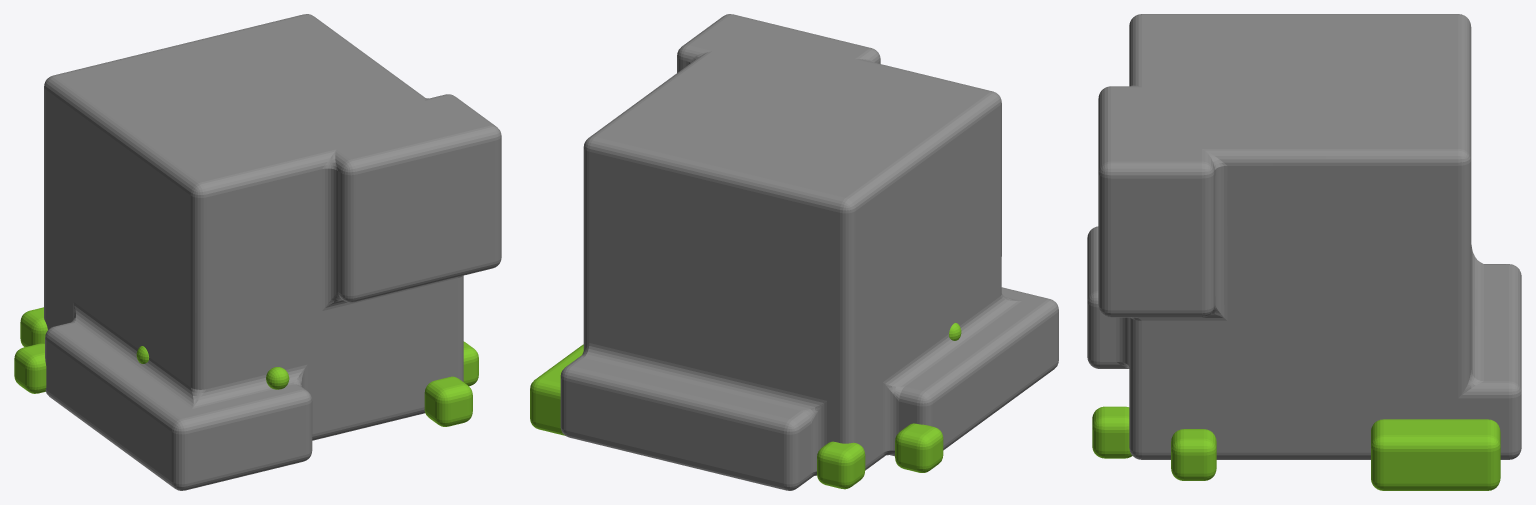
3 renders of one model, left to right at view 1: azimuth 30°, elevation 25°; view 2: azimuth 150°, elevation 25°; view 3: azimuth 270°, elevation 25°, orthographic. The views are drawn at different scales.
Visible parts, largest first — view 1: BipJamExport_stone; view 2: BipJamExport_stone; view 3: BipJamExport_stone.
Boxes of the visible parts, x1,y1,x2,y2 form: BipJamExport_stone: (14, 14, 501, 490); BipJamExport_stone: (530, 14, 1058, 490); BipJamExport_stone: (1087, 14, 1521, 490).
Bounding box in the file's own units: 0.8819 × 0.6755 × 0.8327.
